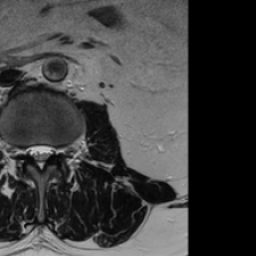CCS_normal: (35, 136, 45, 176)
LFS_stenosis: (54, 140, 62, 162)
LLS_normal: (45, 139, 53, 168)
RFS_stenosis: (18, 141, 27, 162)
RLS_normal: (27, 139, 37, 168)
